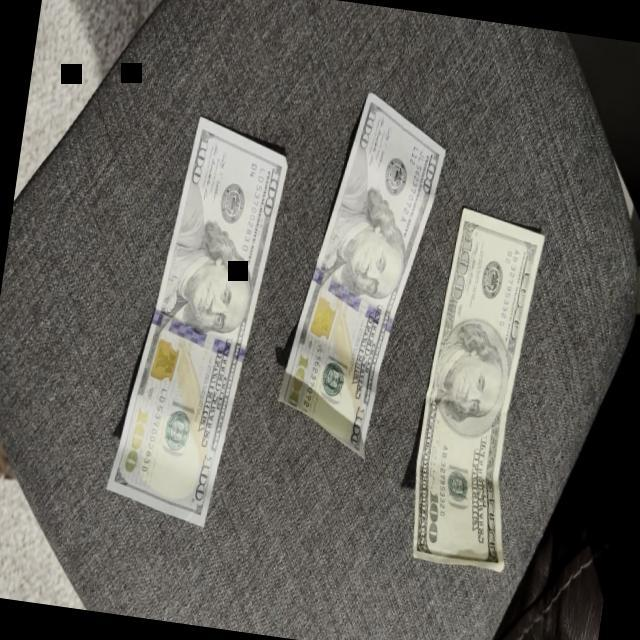hundred: (106, 116, 289, 530), (278, 90, 446, 458), (412, 207, 546, 571)
